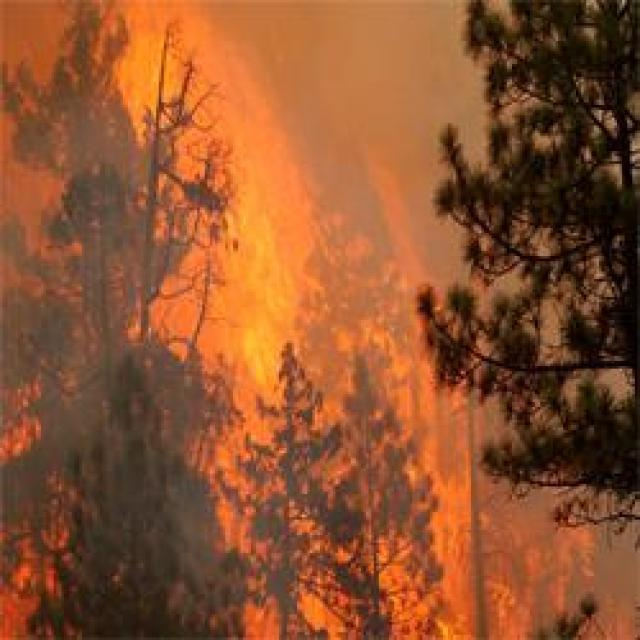Fire: (205, 182, 293, 361)
